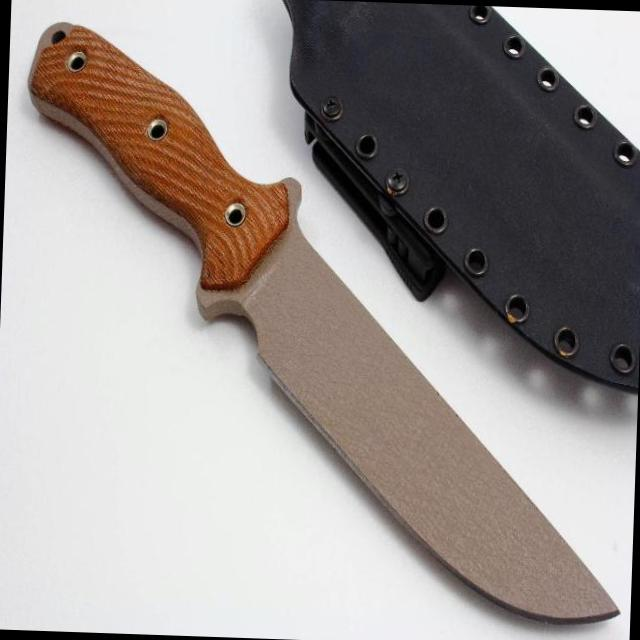Knife: (28, 22, 610, 621)
